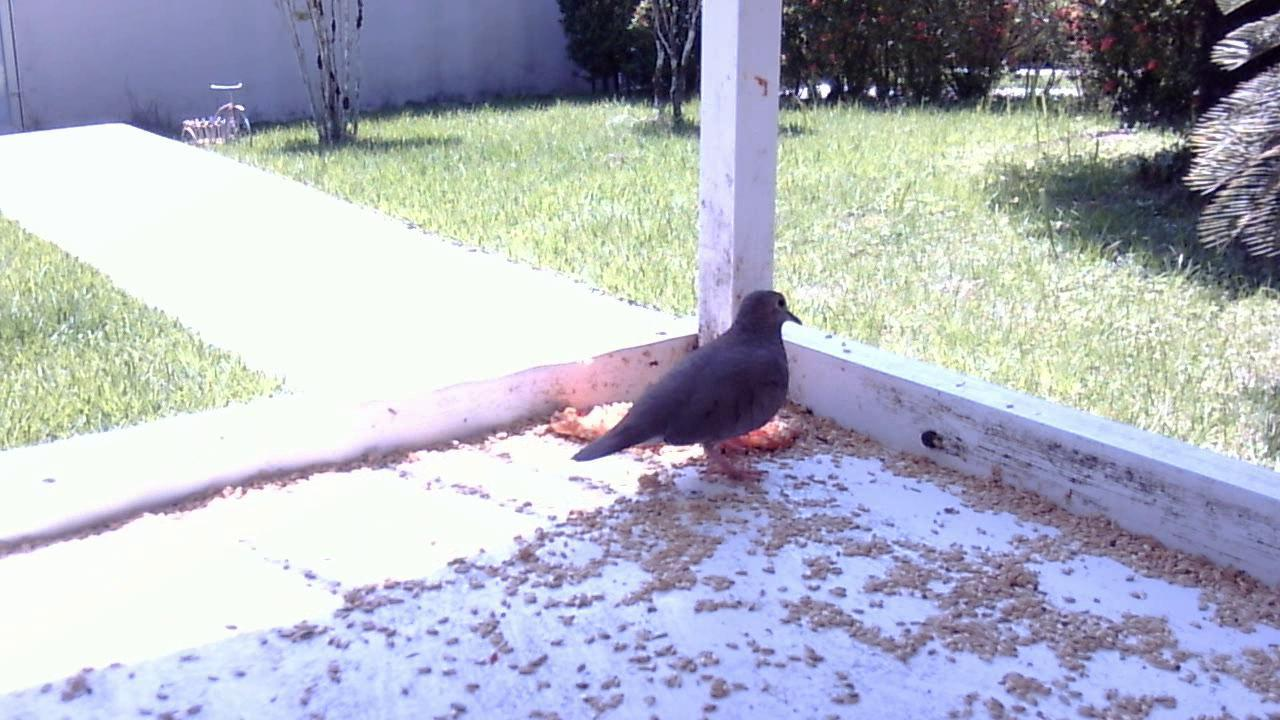rolinha: (567, 286, 807, 488)
